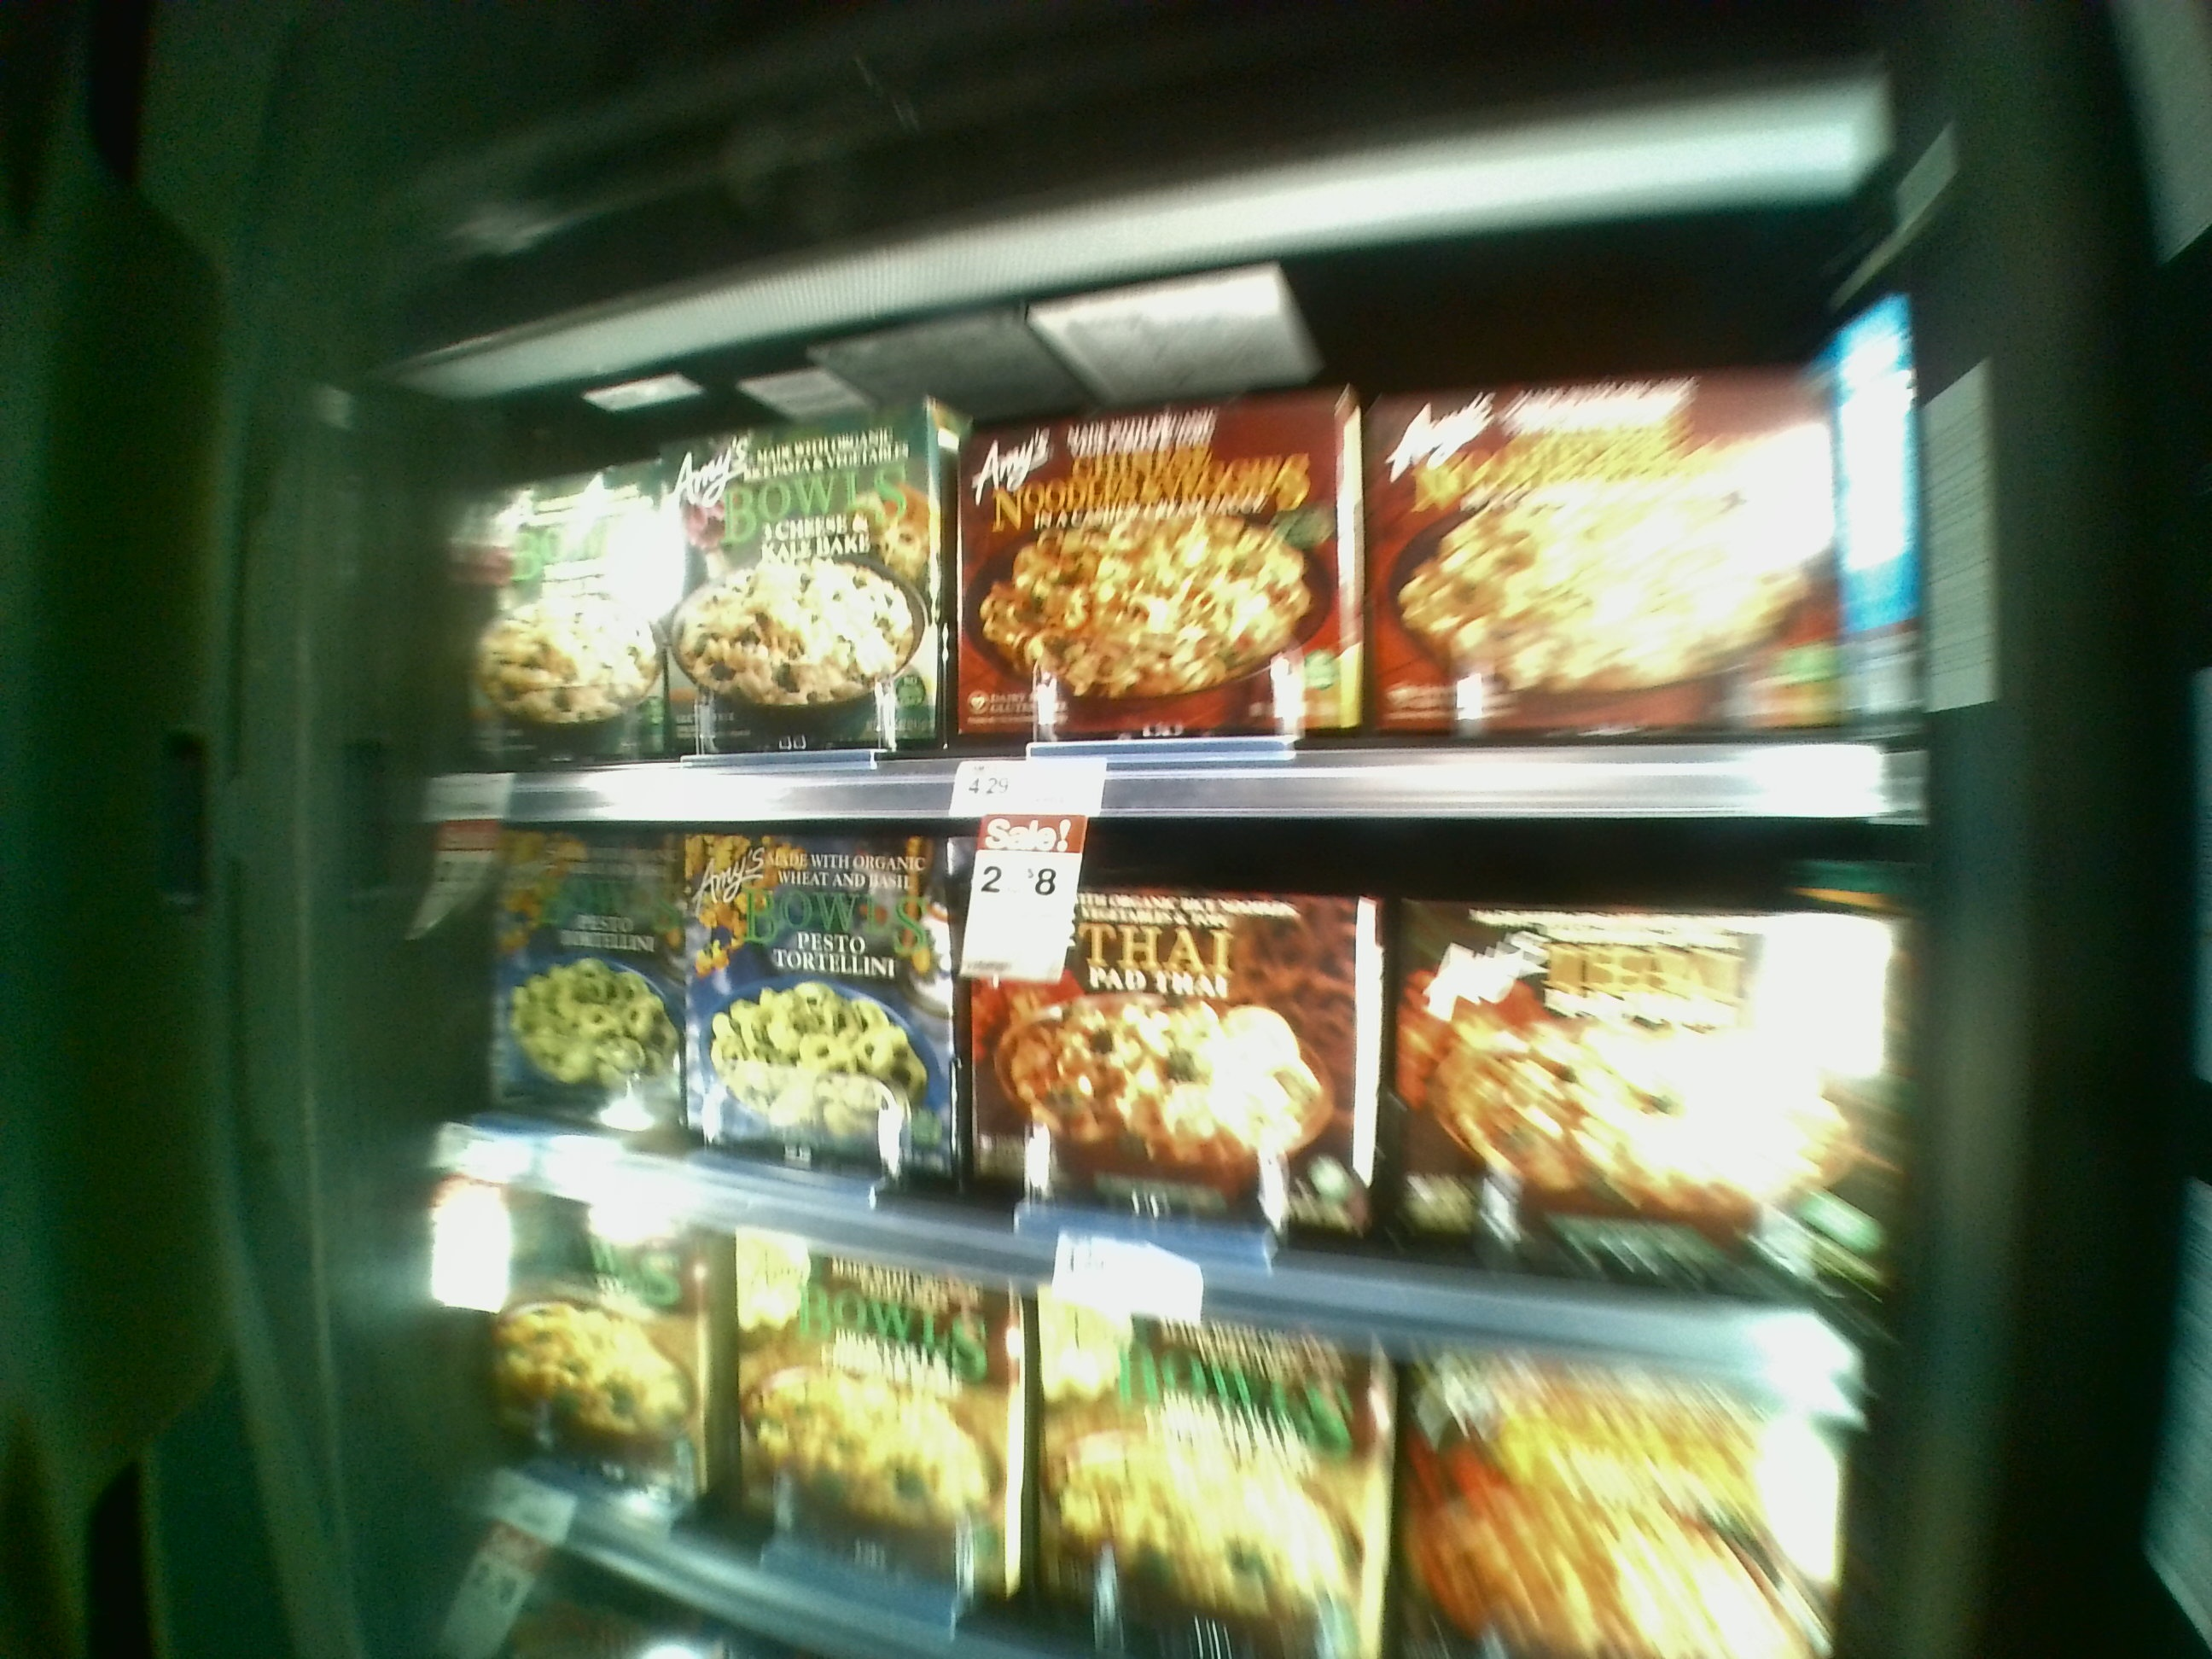shelf: (413, 289, 1911, 824), (448, 819, 1888, 1307)
